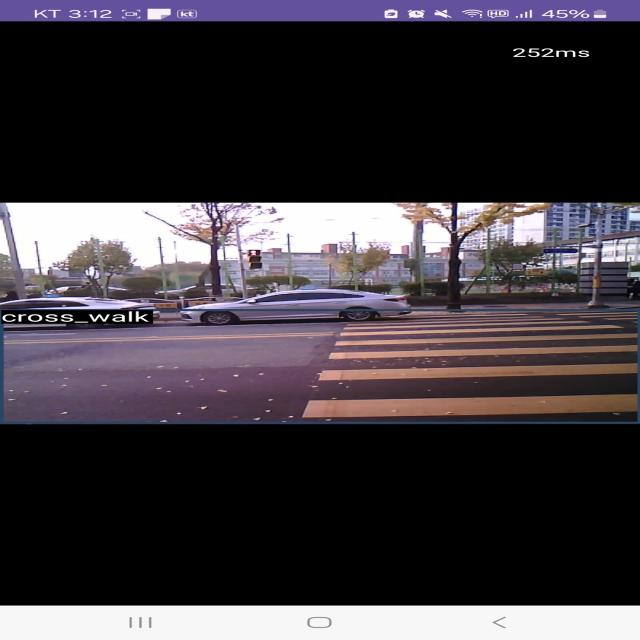crosswalk: (297, 305, 640, 425)
redlight: (248, 248, 264, 261)
